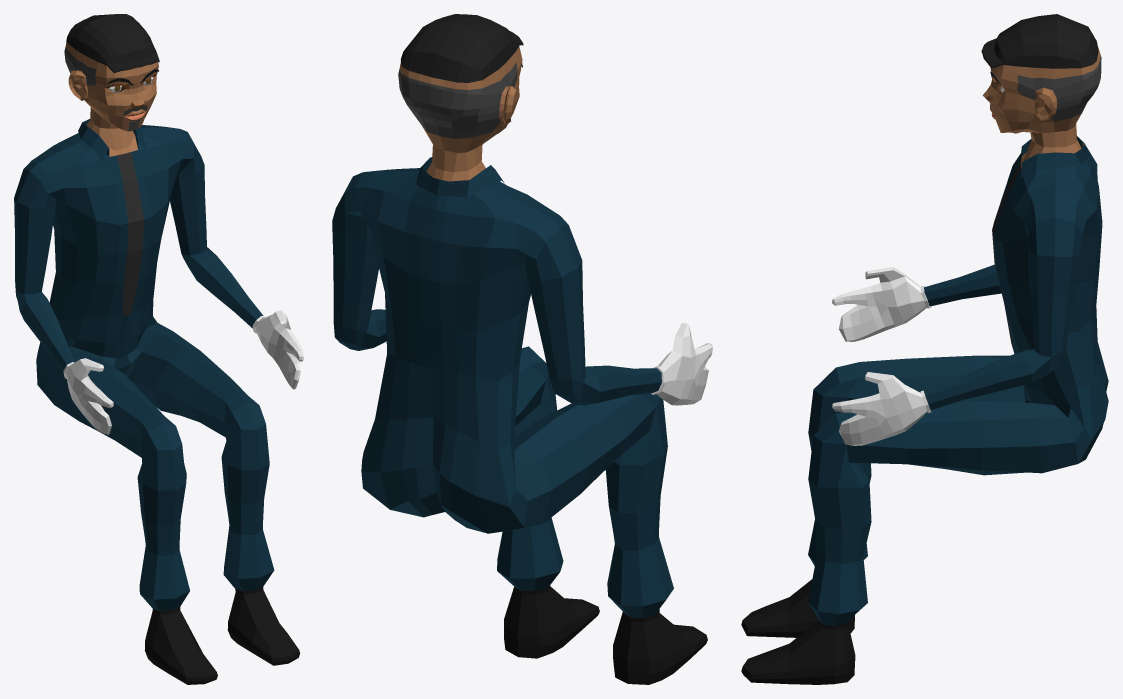
The model's file is Mechanic_Sit.fbx.
3 views of the same model, side by side, from view 1: azimuth 30°, elevation 25°; view 2: azimuth 150°, elevation 25°; view 3: azimuth 270°, elevation 25° (orthographic). The views are drawn at different scales.
Visible parts, largest first — view 1: Mechanic_Sit; view 2: Mechanic_Sit; view 3: Mechanic_Sit.
Boxes of the visible parts, <box> form: Mechanic_Sit: <box>14,14,303,684</box>; Mechanic_Sit: <box>332,14,712,684</box>; Mechanic_Sit: <box>741,14,1108,684</box>.
Bounding box in the file's own units: 0.2997 × 0.7506 × 0.3957.
